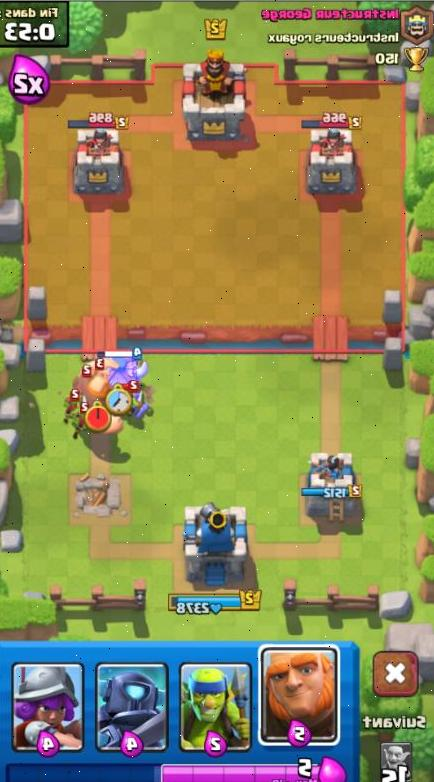enemy_giant: (67, 372, 122, 432)
enemy_goblins: (67, 401, 92, 435), (61, 387, 86, 421)
player_goblin_hut: (92, 346, 151, 392)
